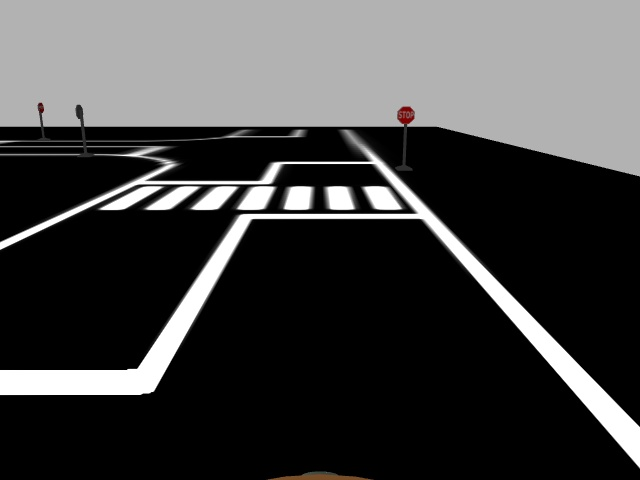stop: (396, 105, 415, 125)
